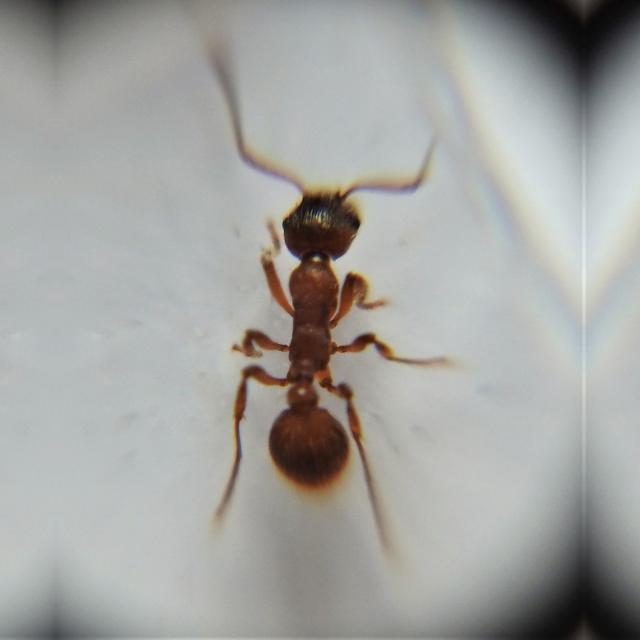Myrmica: (175, 99, 462, 528)
